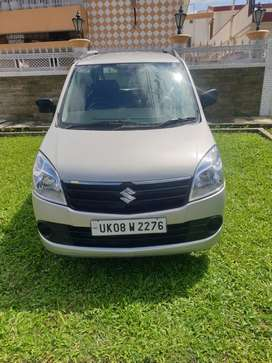UK08W2276: (91, 217, 167, 236)
